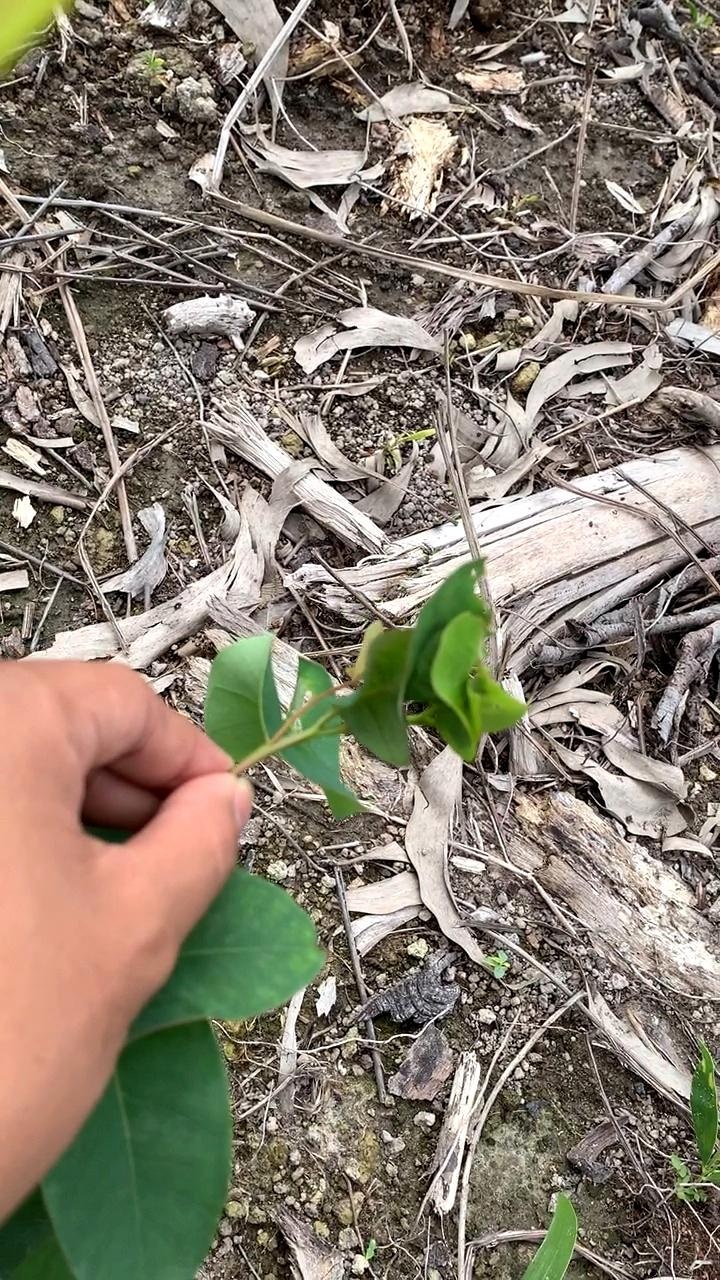Leaf Roller - Leaf: (340, 553, 535, 781)
